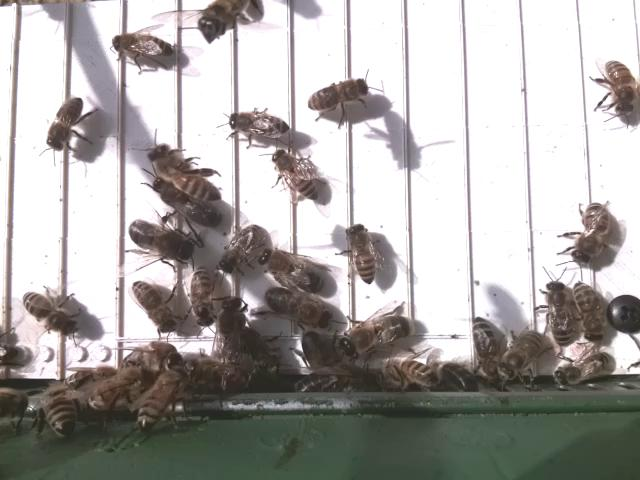Drone: (333, 311, 415, 361), (262, 282, 332, 333), (256, 245, 325, 295), (126, 215, 193, 263)
Worker: (146, 140, 224, 202), (566, 195, 613, 267), (20, 288, 84, 339), (269, 147, 323, 205), (129, 277, 177, 334), (342, 220, 382, 286), (44, 96, 87, 155), (304, 77, 372, 114), (544, 276, 576, 351), (214, 224, 261, 275), (224, 108, 294, 142), (601, 55, 638, 116), (108, 31, 175, 63), (575, 283, 609, 346), (470, 313, 501, 382), (189, 261, 218, 328)
